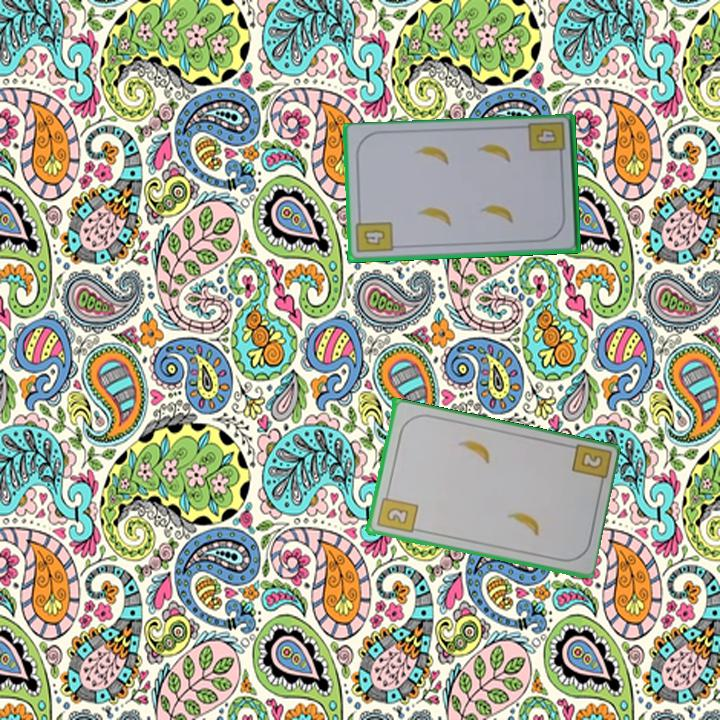2b: (373, 488, 420, 536), (568, 441, 612, 491)
4b: (525, 119, 568, 163), (353, 213, 396, 256)
